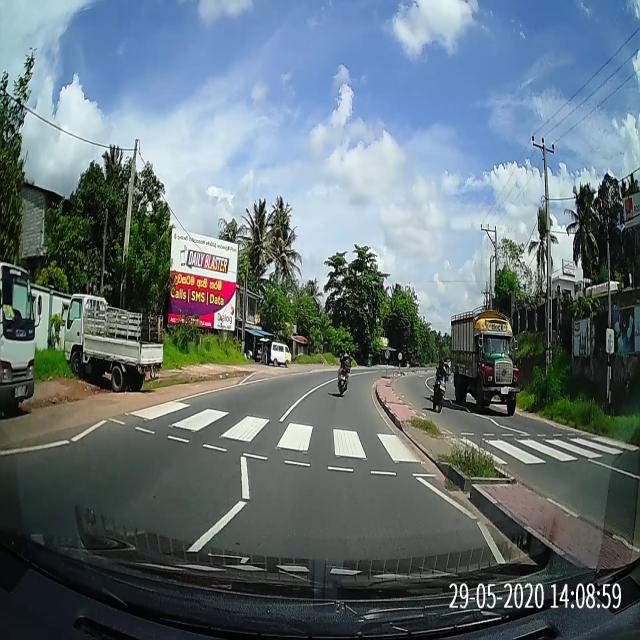Crosswalk: (104, 396, 640, 480)
